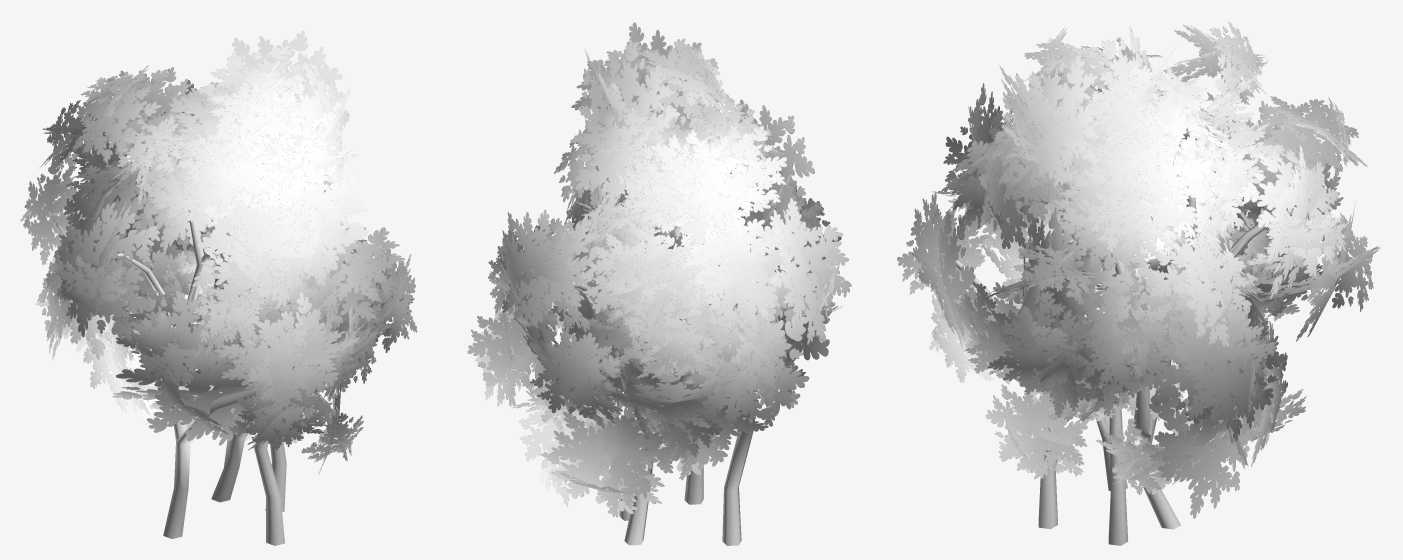
The model's file is bush_01.fbx.
3 renders of one model, left to right at view 1: azimuth 30°, elevation 25°; view 2: azimuth 150°, elevation 25°; view 3: azimuth 270°, elevation 25°, orthographic. The views are drawn at different scales.
Visible parts, largest first — view 1: Plane.099, Cylinder.015; view 2: Plane.099, Cylinder.015; view 3: Plane.099, Cylinder.015.
Part boxes in pixels (bbox=[...]): Plane.099: bbox=[20, 31, 417, 474]; Cylinder.015: bbox=[117, 209, 286, 545]; Plane.099: bbox=[467, 22, 851, 517]; Cylinder.015: bbox=[572, 181, 779, 545]; Plane.099: bbox=[897, 21, 1380, 518]; Cylinder.015: bbox=[955, 162, 1307, 545].
Size of the model in its own units: 439 by 591 by 511.
